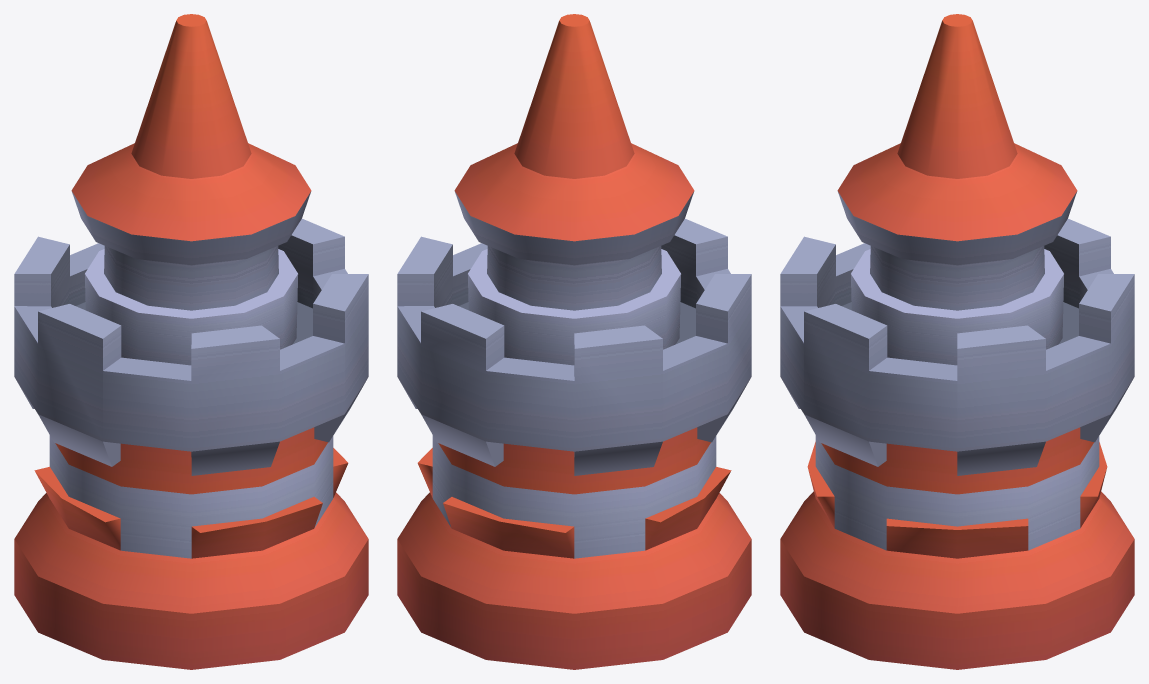
The model's file is tower-round-build-f.glb.
3 renders of one model, left to right at view 1: azimuth 30°, elevation 25°; view 2: azimuth 150°, elevation 25°; view 3: azimuth 270°, elevation 25°, orthographic.
Visible parts, largest first — view 1: tower-round-build-f; view 2: tower-round-build-f; view 3: tower-round-build-f.
Boxes of the visible parts, x1=… form: tower-round-build-f: x1=14, y1=14, x2=368, y2=669; tower-round-build-f: x1=397, y1=14, x2=751, y2=669; tower-round-build-f: x1=780, y1=14, x2=1134, y2=669.
Size of the model in its own units: 1 by 1.79 by 1.
1 material, 1 textured.
